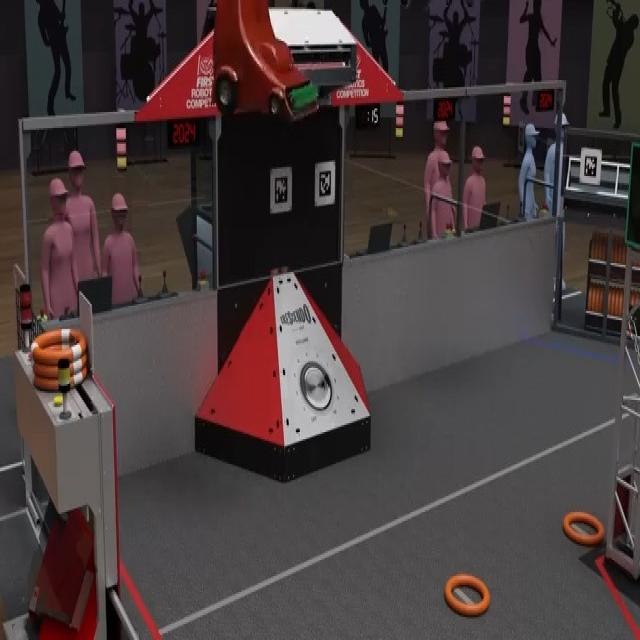notes: (446, 570, 492, 616), (564, 511, 607, 548)
